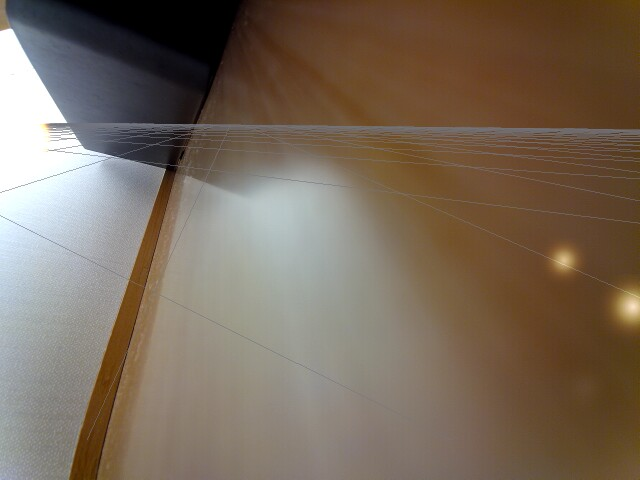fire: (0, 96, 56, 196), (617, 284, 638, 327), (551, 248, 573, 273)
